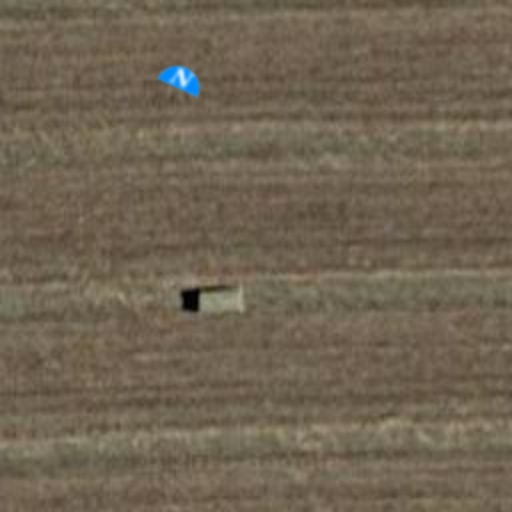semicircle: (152, 48, 212, 108)
